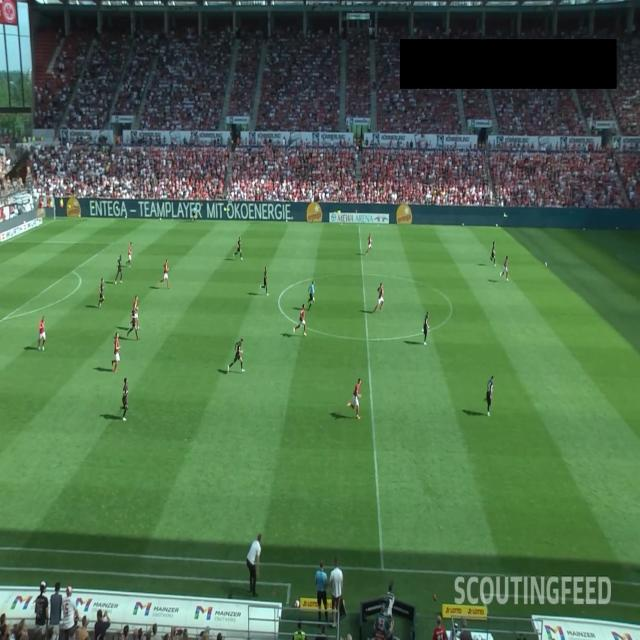ball: (545, 261, 547, 267)
